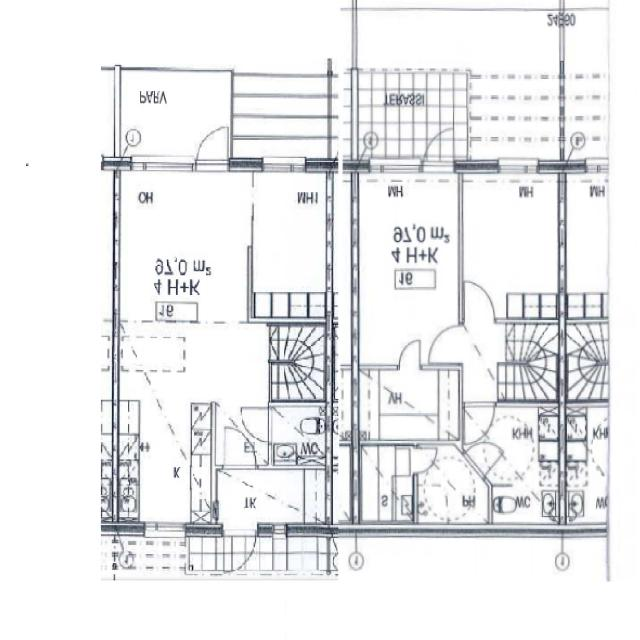door: (464, 432, 504, 481), (196, 120, 228, 173), (424, 124, 454, 174), (224, 426, 256, 470), (465, 282, 495, 325), (224, 531, 254, 574), (465, 402, 495, 444), (429, 327, 464, 363), (239, 409, 272, 443), (414, 449, 439, 475), (400, 343, 420, 371)
